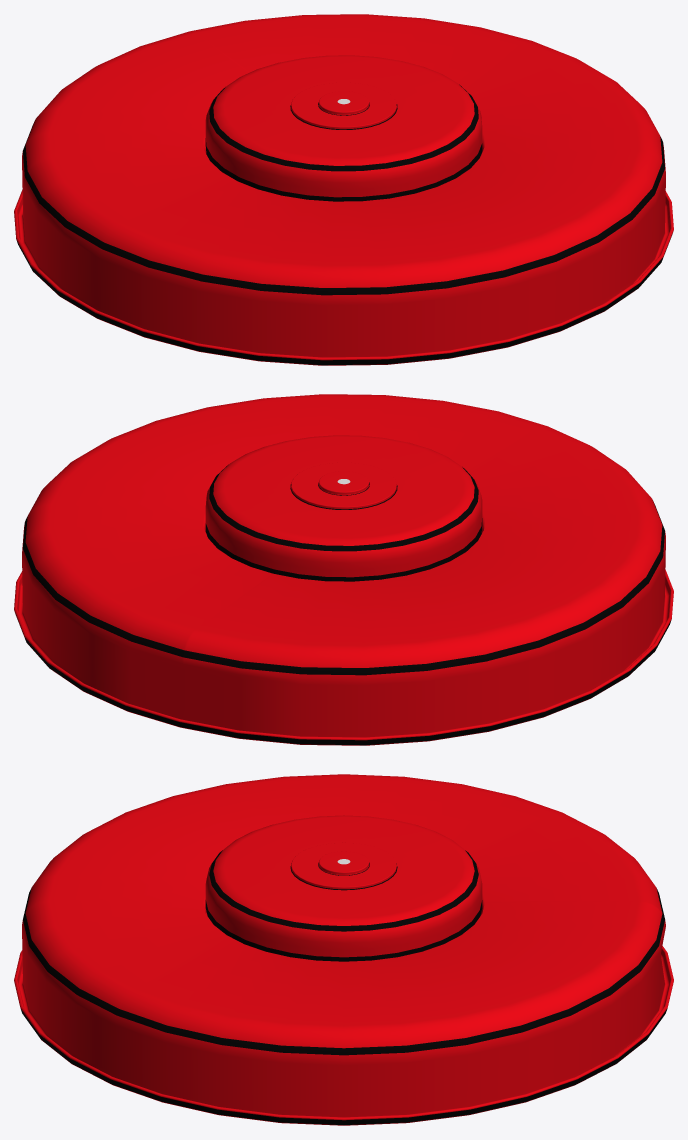
The model's file is landmine.gltf.
The picture shows the model from 3 angles, top to bottom: view 1: azimuth 30°, elevation 25°; view 2: azimuth 150°, elevation 25°; view 3: azimuth 270°, elevation 25°; orthographic projection.
Parts seen in each view (by area): view 1: landmine; view 2: landmine; view 3: landmine.
Part boxes in pixels (box(x1,y1,x2,y2)): landmine: box(14, 14, 673, 365); landmine: box(14, 394, 673, 745); landmine: box(14, 774, 673, 1125).
Bounding box in the file's own units: 0.6475 × 0.1364 × 0.6475.
